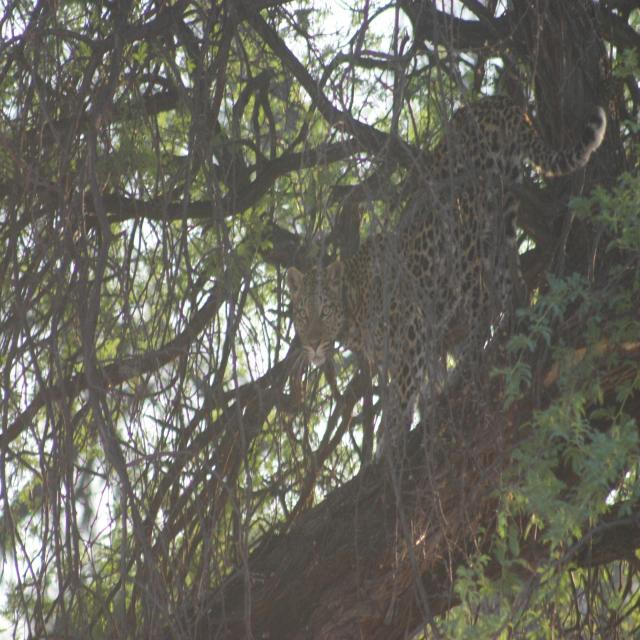Leopard: (282, 48, 619, 538)
